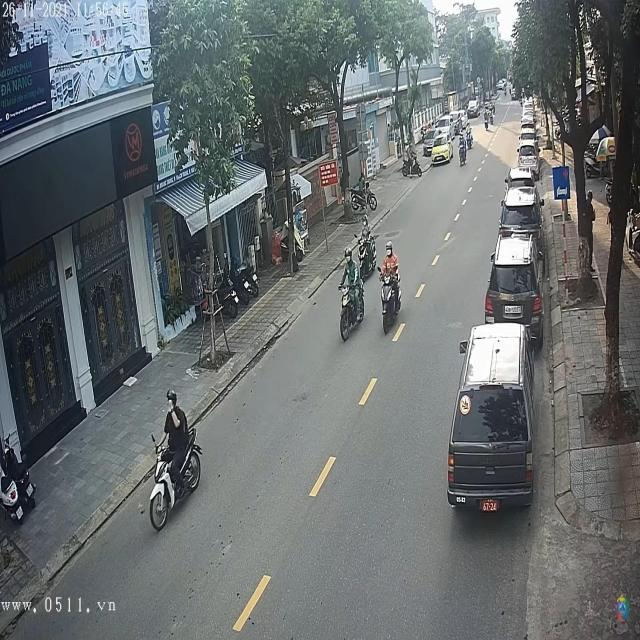car: (449, 324, 535, 512), (486, 233, 542, 332), (499, 188, 544, 238), (468, 98, 480, 116)
motorcycle: (145, 422, 205, 538), (338, 279, 366, 344), (380, 265, 403, 335), (355, 234, 379, 282)
